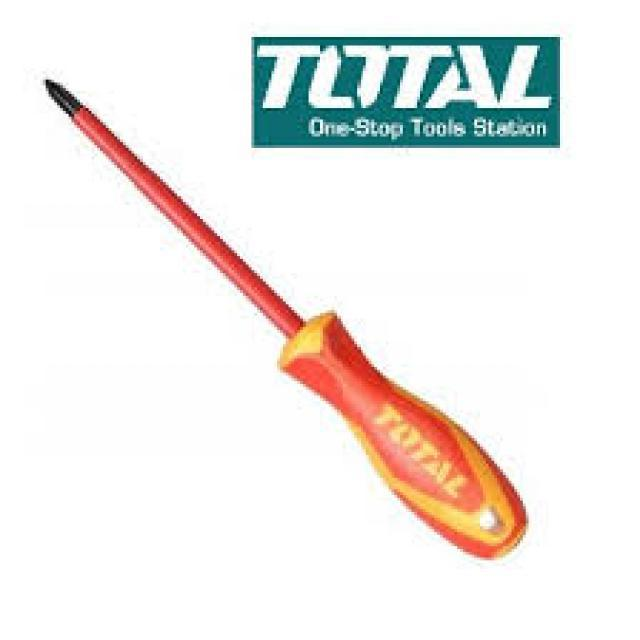screwdriver: (83, 87, 551, 522)
